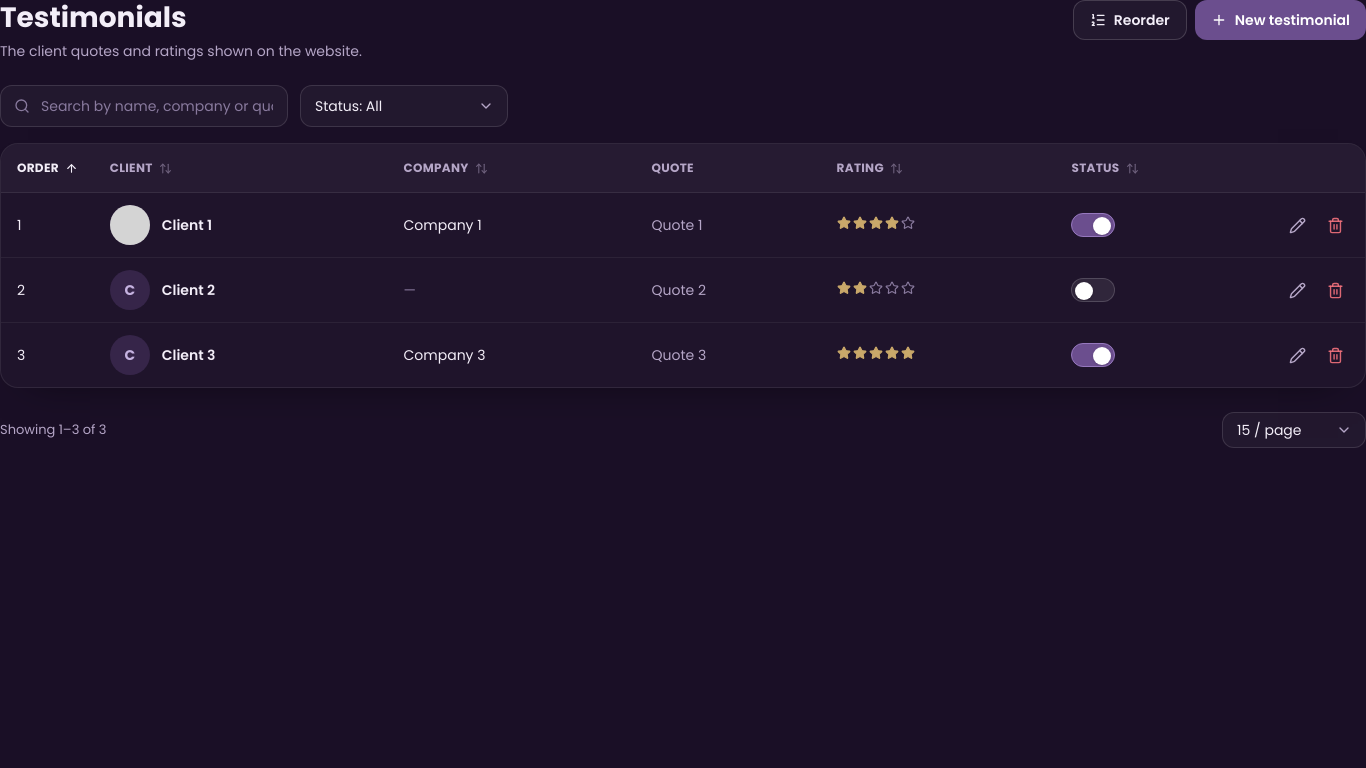
Scenario: TestimonialList › delete › does nothing when the dialog is cancelled
Expected: the text "Client 2" is shown, [162, 280, 215, 300]
Click the button named "Delete" in the row of "Client 2". click: (1335, 290)
box: [1317, 272, 1353, 308]
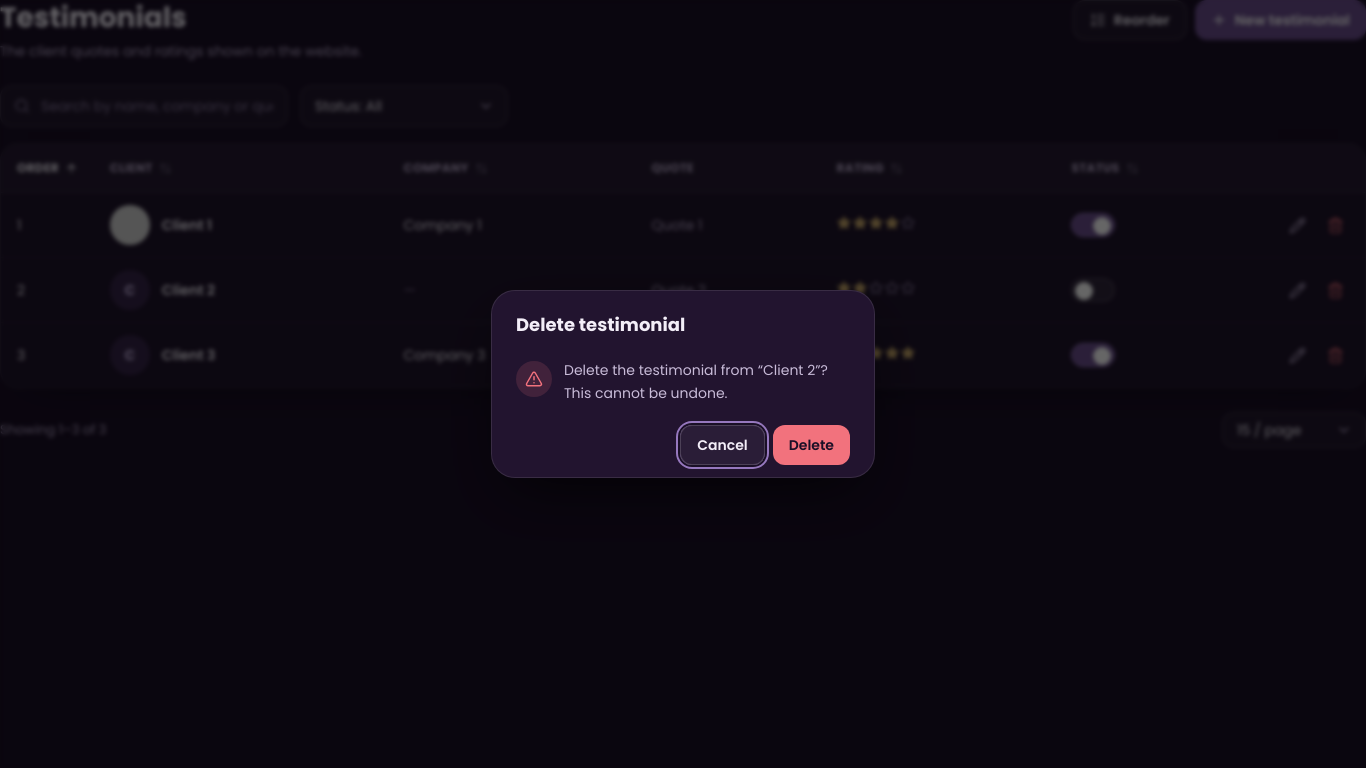
Click the button "Cancel". click: (723, 445)
box: [680, 425, 765, 465]
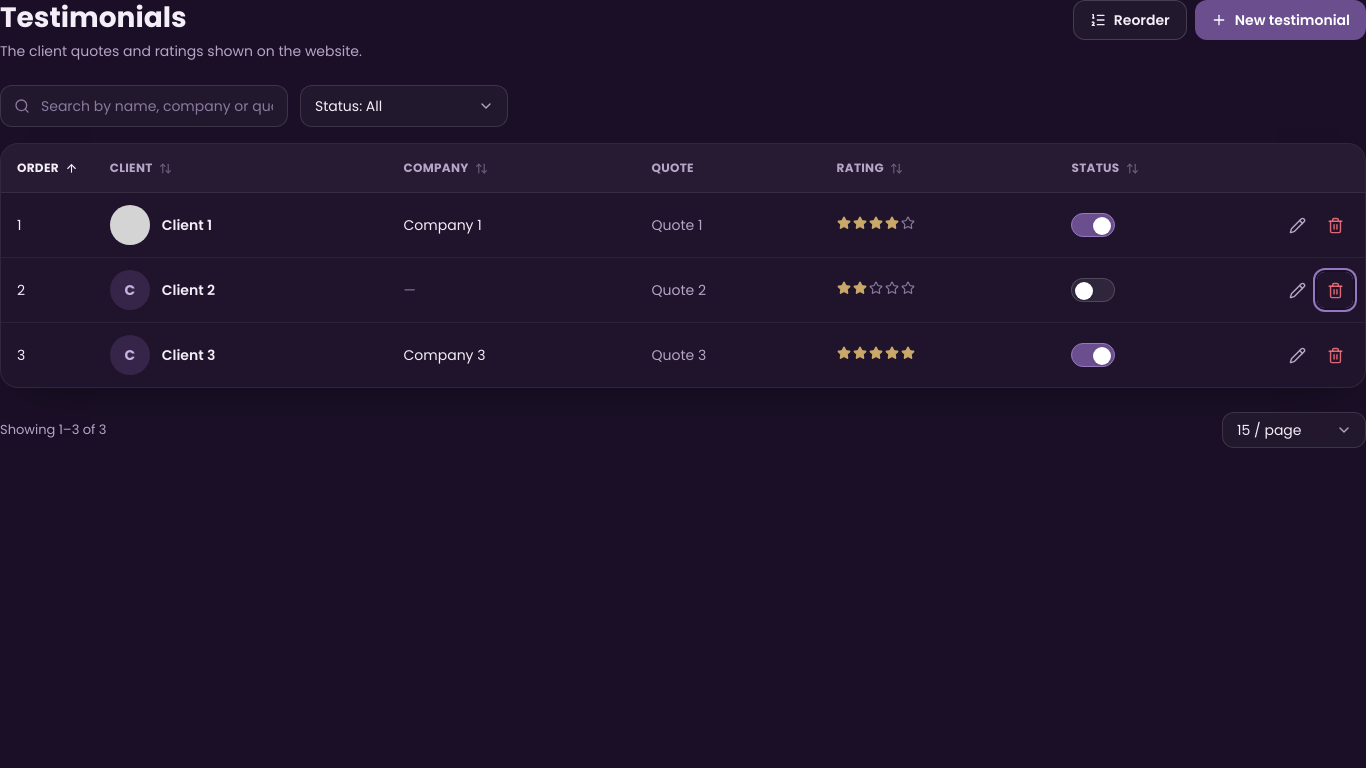
Now the dialog is gone
